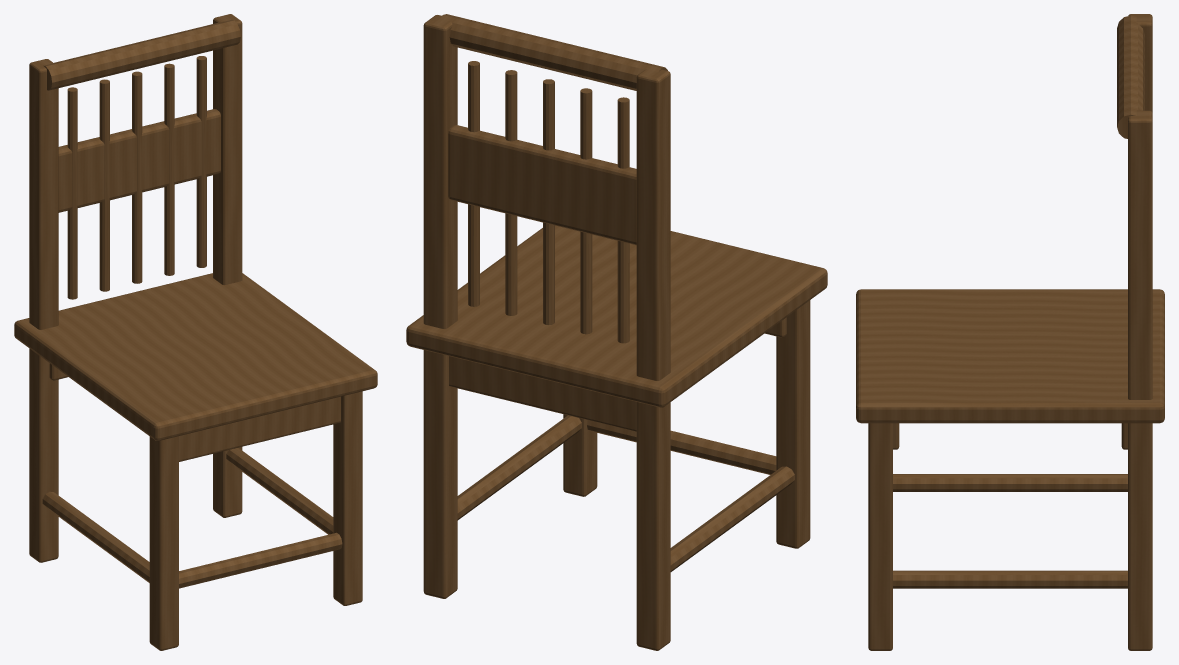
Rendered from FUR_WoodChair.fbx.
The picture shows the model from 3 angles, left to right: view 1: azimuth 30°, elevation 25°; view 2: azimuth 150°, elevation 25°; view 3: azimuth 270°, elevation 25°; orthographic projection. The views are drawn at different scales.
Parts seen in each view (by area): view 1: FUR_WoodChair; view 2: FUR_WoodChair; view 3: FUR_WoodChair.
Part boxes in pixels (x1=…): FUR_WoodChair: x1=14, y1=14, x2=377, y2=650; FUR_WoodChair: x1=406, y1=14, x2=827, y2=650; FUR_WoodChair: x1=856, y1=14, x2=1164, y2=650.
Bounding box in the file's own units: 45 × 95.25 × 50.
